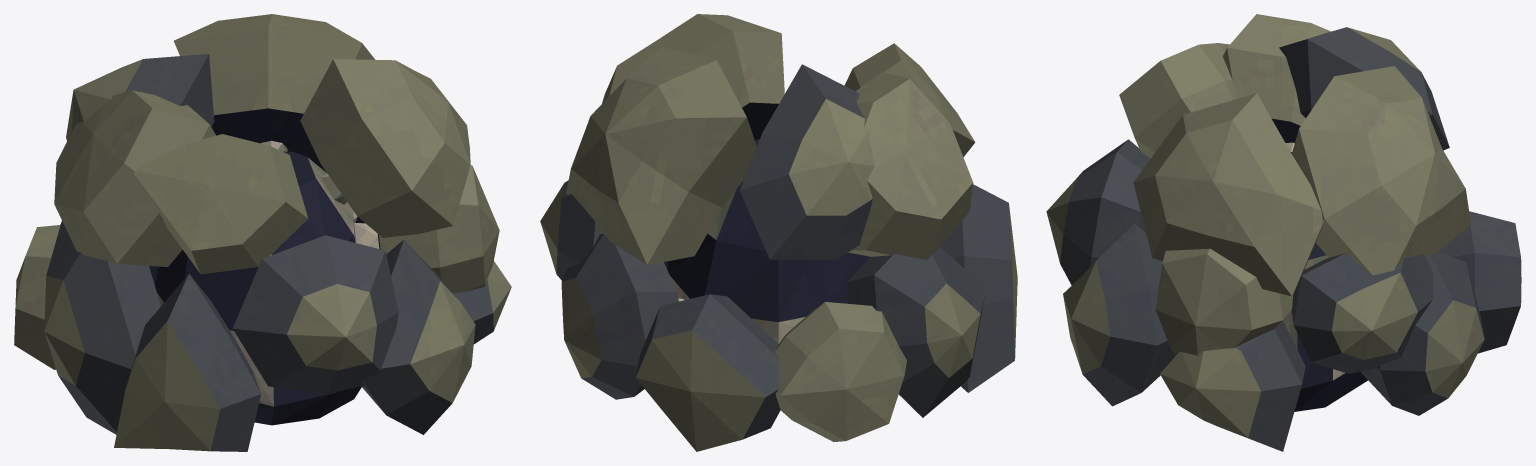
Rendered from forest_bush_tall.glb.
The picture shows the model from 3 angles, left to right: view 1: azimuth 30°, elevation 25°; view 2: azimuth 150°, elevation 25°; view 3: azimuth 270°, elevation 25°; orthographic projection. The views are drawn at different scales.
Visible parts, largest first — view 1: ForestBush; view 2: ForestBush; view 3: ForestBush.
Boxes of the visible parts, <box> form: ForestBush: <box>14,14,511,451</box>; ForestBush: <box>540,14,1017,451</box>; ForestBush: <box>1046,14,1521,451</box>.
Size of what is drawn, in the model's own units: 2.83 by 2.2 by 3.
Materials: 4 (4 with a texture image).
